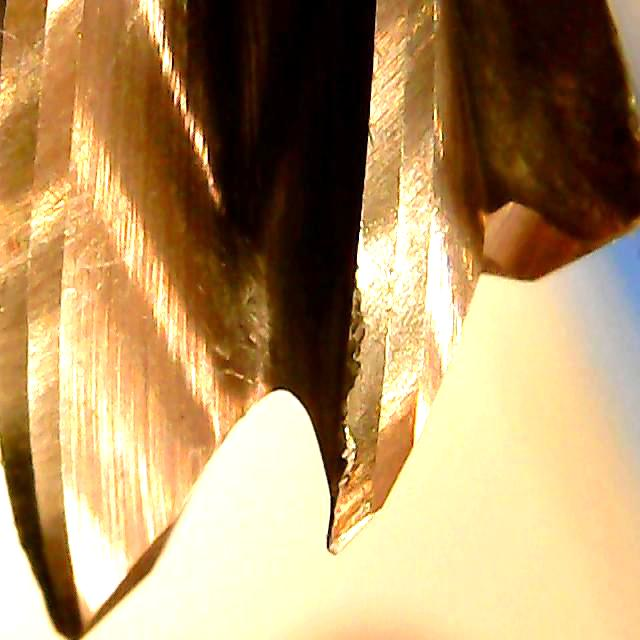Tool-wear-class-1: (294, 278, 465, 562)
